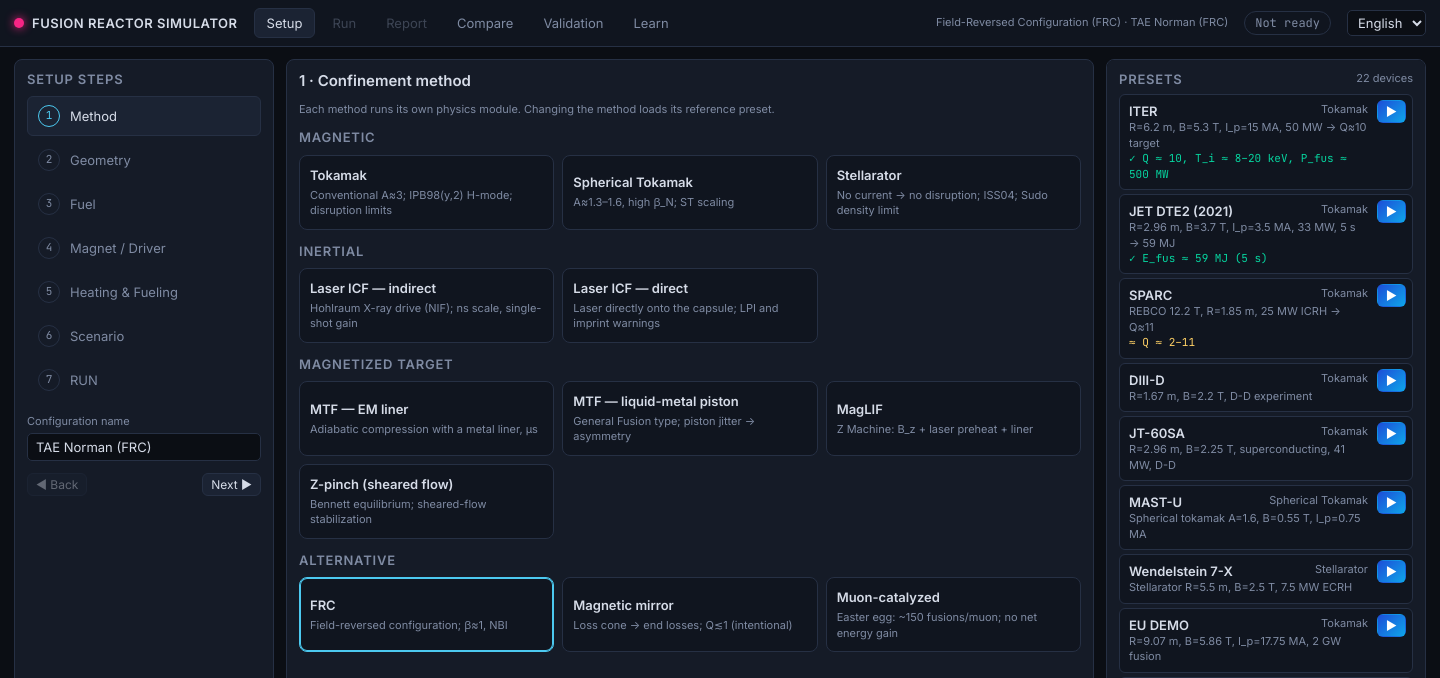
Test case: the wizard's Scenario step › reads the controls of the configuration through a probe and offers a lane per control
Click the text "Scenario" at (97, 336), box [70,327,124,345]
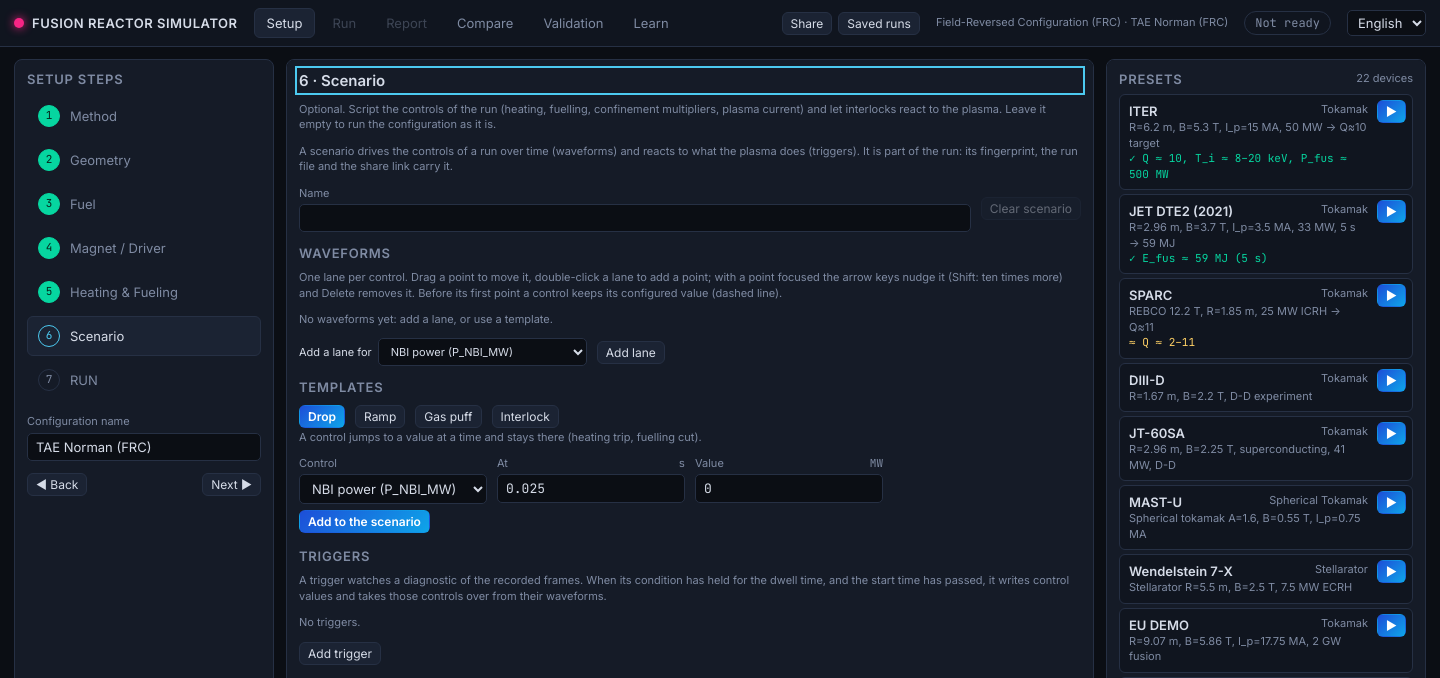
Now the heading "Waveforms" is shown, box [299,245,391,261]
Now the text "No waveforms yet: add a lane, or use a template." is shown, box [299,312,553,326]
Now the heading "6 · Scenario" is shown, box [299,71,385,90]
